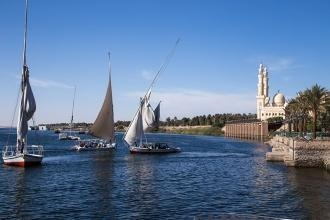fanchuan: (1, 49, 54, 166), (123, 79, 185, 156), (69, 58, 118, 153)
